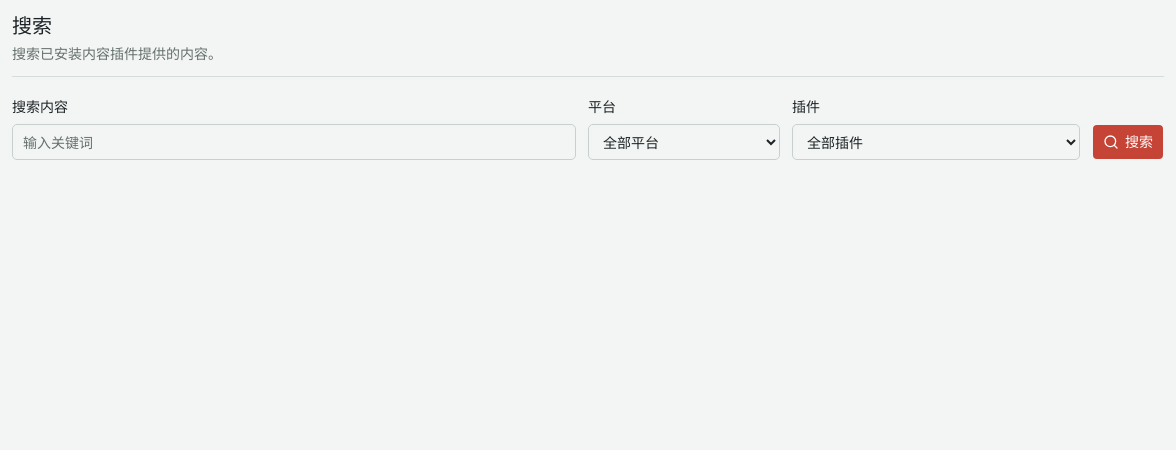
empty state views › renders the Search empty state from Core
This screenshot has width=1176, height=450.
In the search field labelled "搜索内容": (294, 142) left=12, top=124, right=576, bottom=160, type "虚拟关键词"
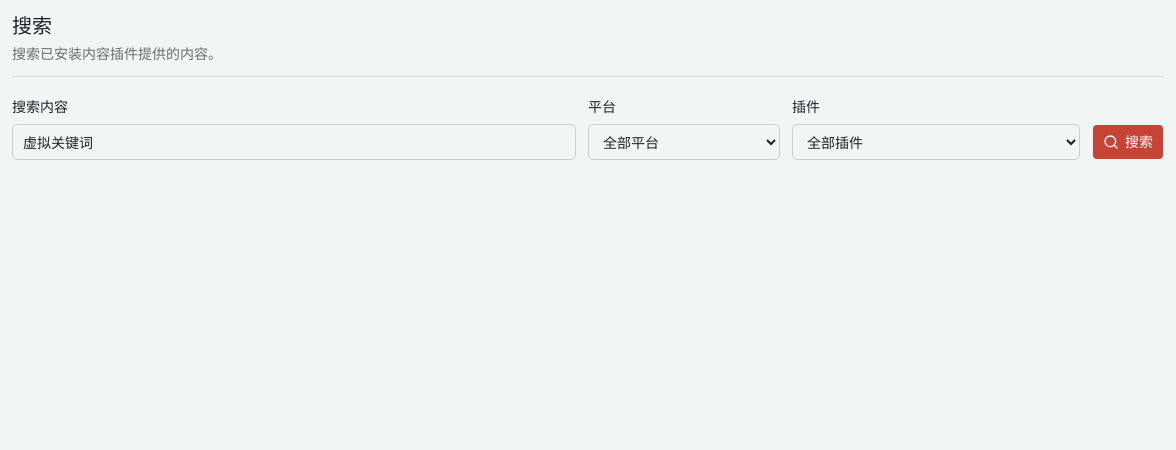
Submit the form, box left=12, top=97, right=1164, bottom=160
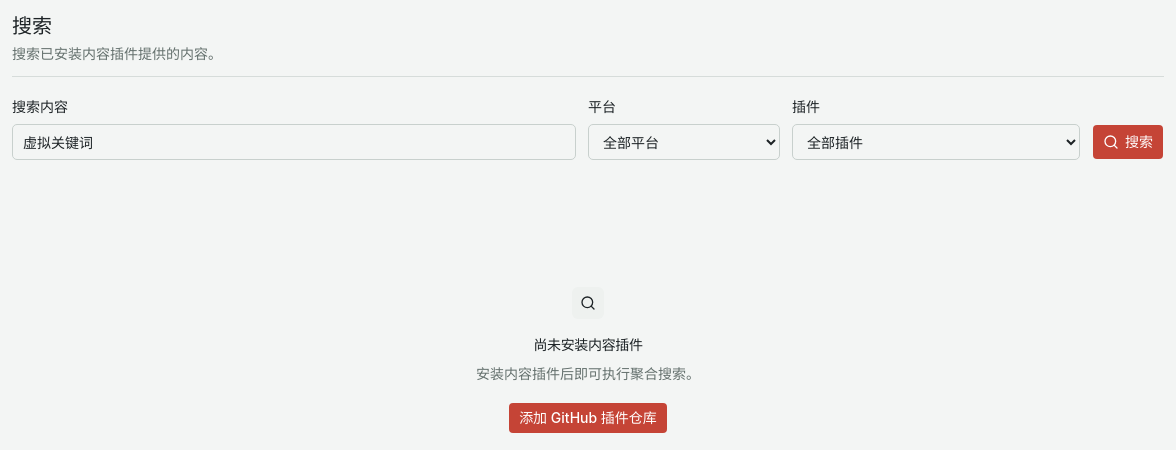
expect the text "尚未安装内容插件" is shown: met, box left=533, top=335, right=643, bottom=355
expect the text "添加 GitHub 插件仓库" is shown: met, box left=508, top=402, right=668, bottom=434
